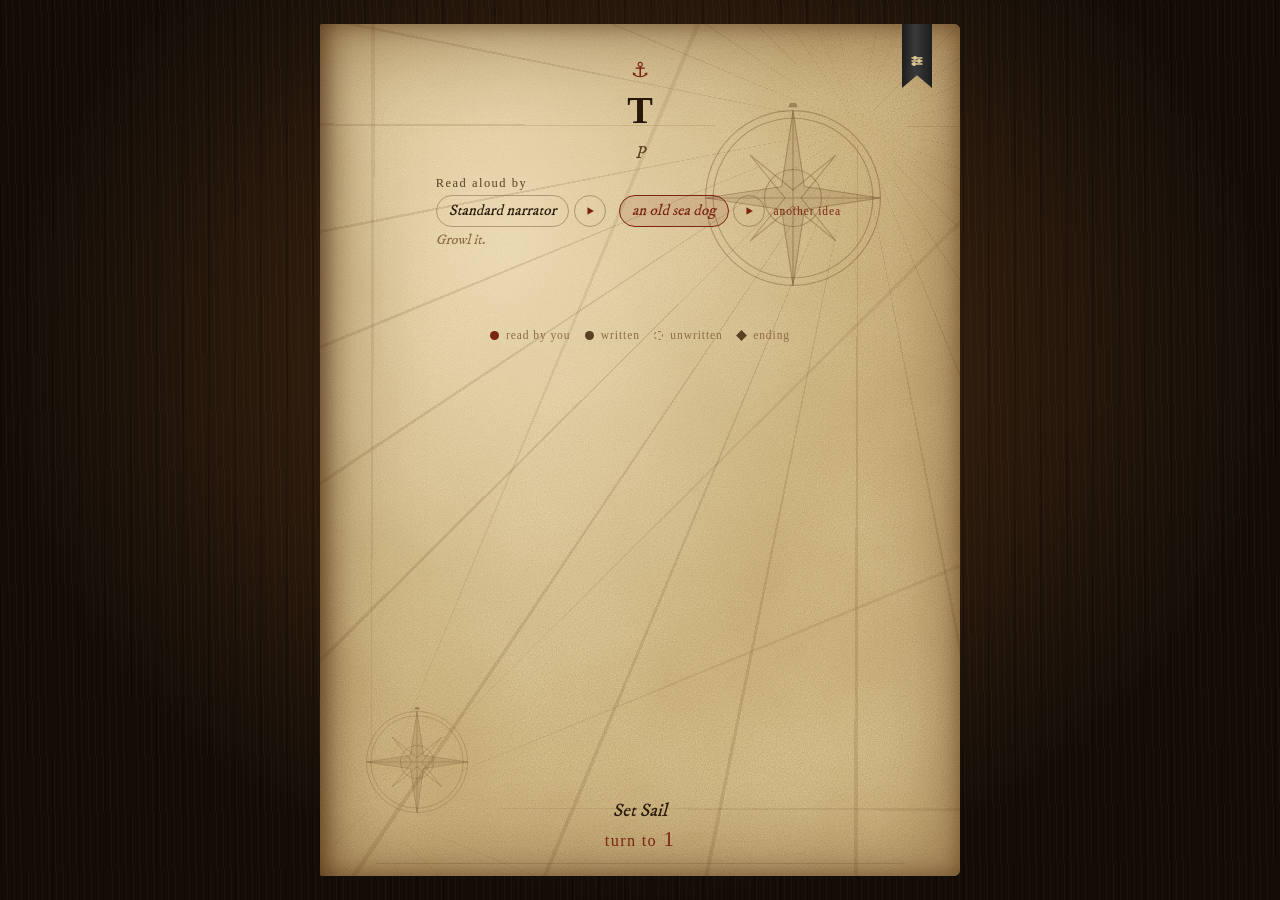
Scenario: the cover’s voice choice › lets the reader hear the standard and suggested narrators read the summary, choose one, or ask for another idea
Expected: the text "Growl it." is shown, [436,232,485,250]
Click the button named "Hear Standard narrator". click: (590, 211)
box: [574,195,606,227]
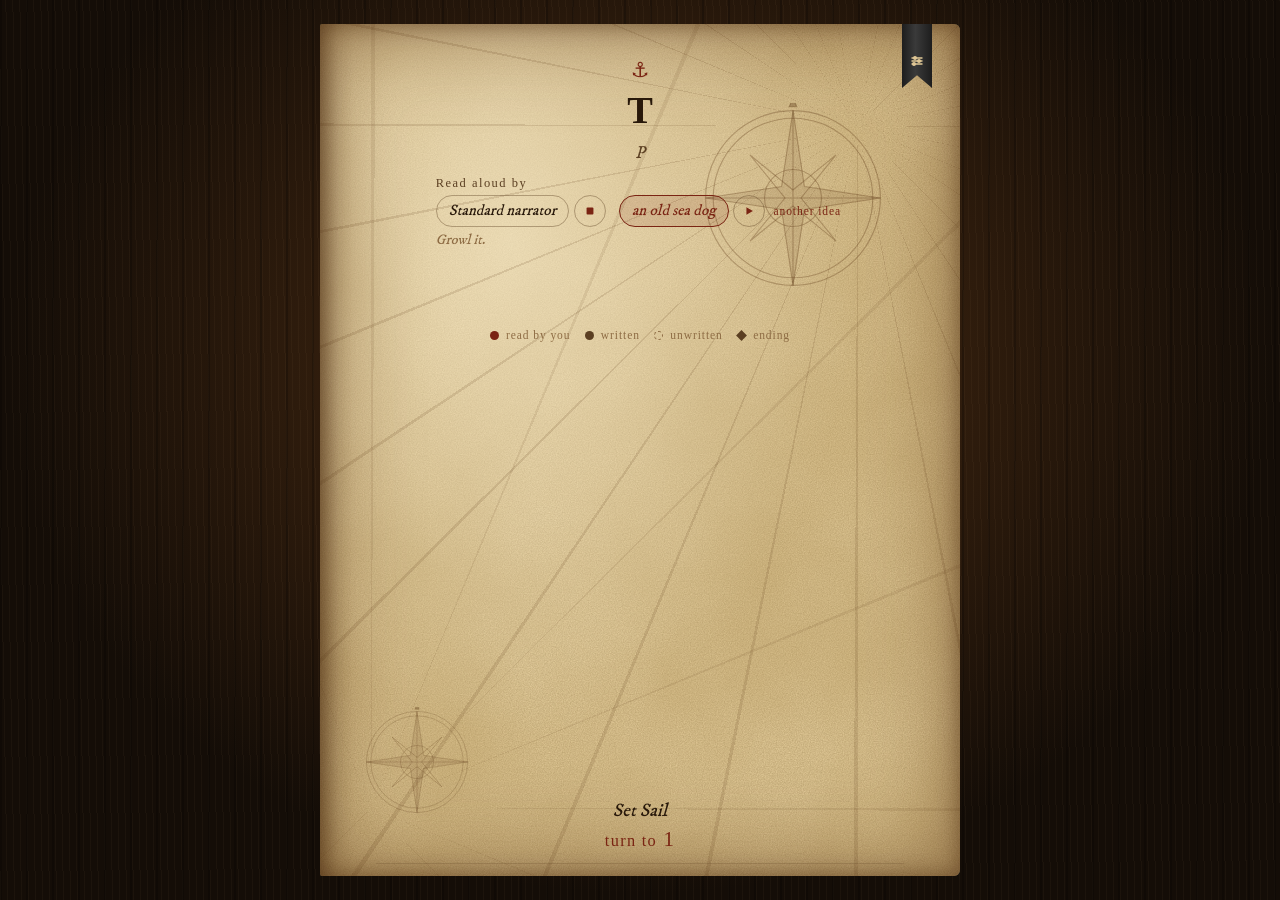
Click the button named "Hear an old sea dog". click: (750, 211)
box: [734,195,766,227]
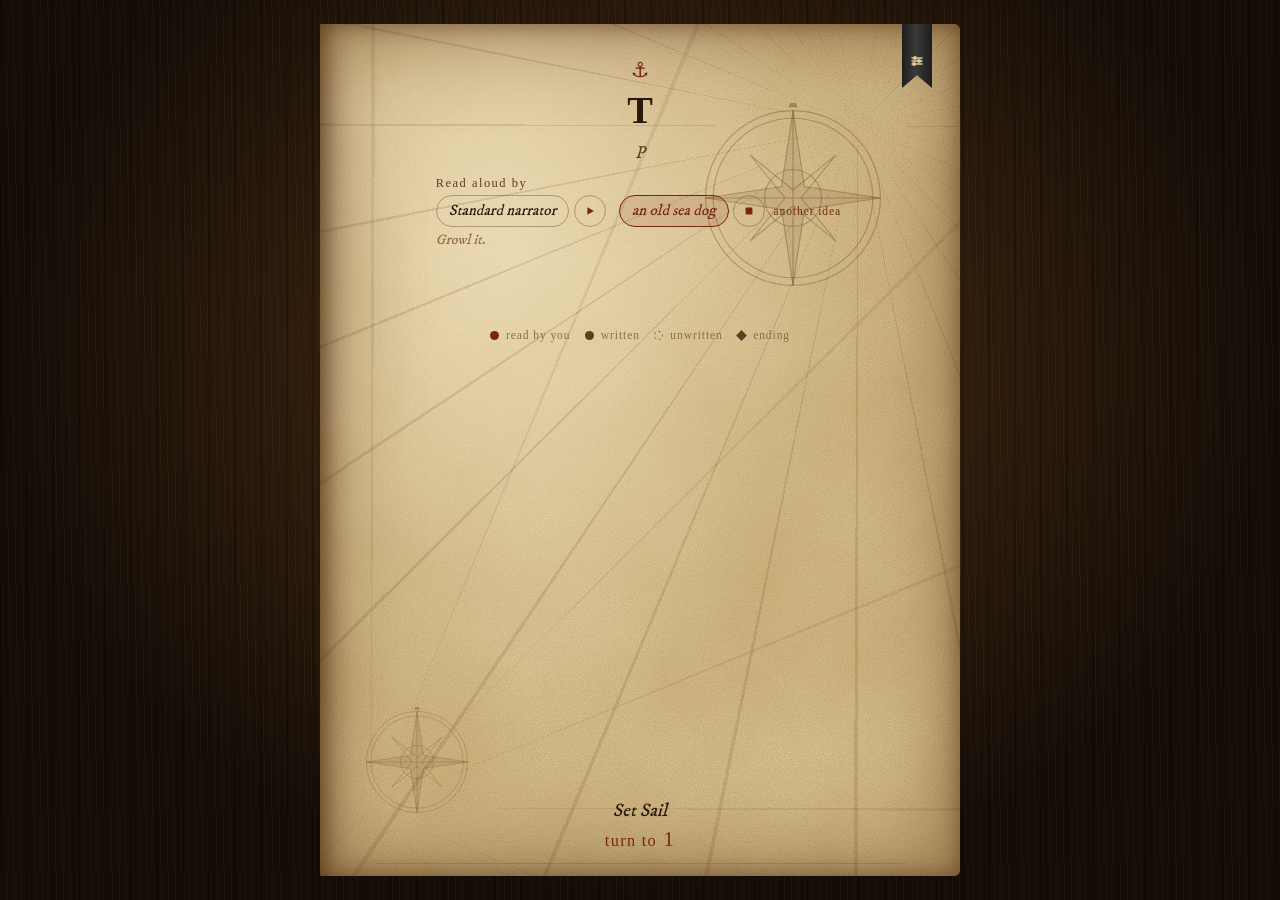
Click the radio button labelled "Standard narrator". click: (502, 211)
box: [436,195,569,227]
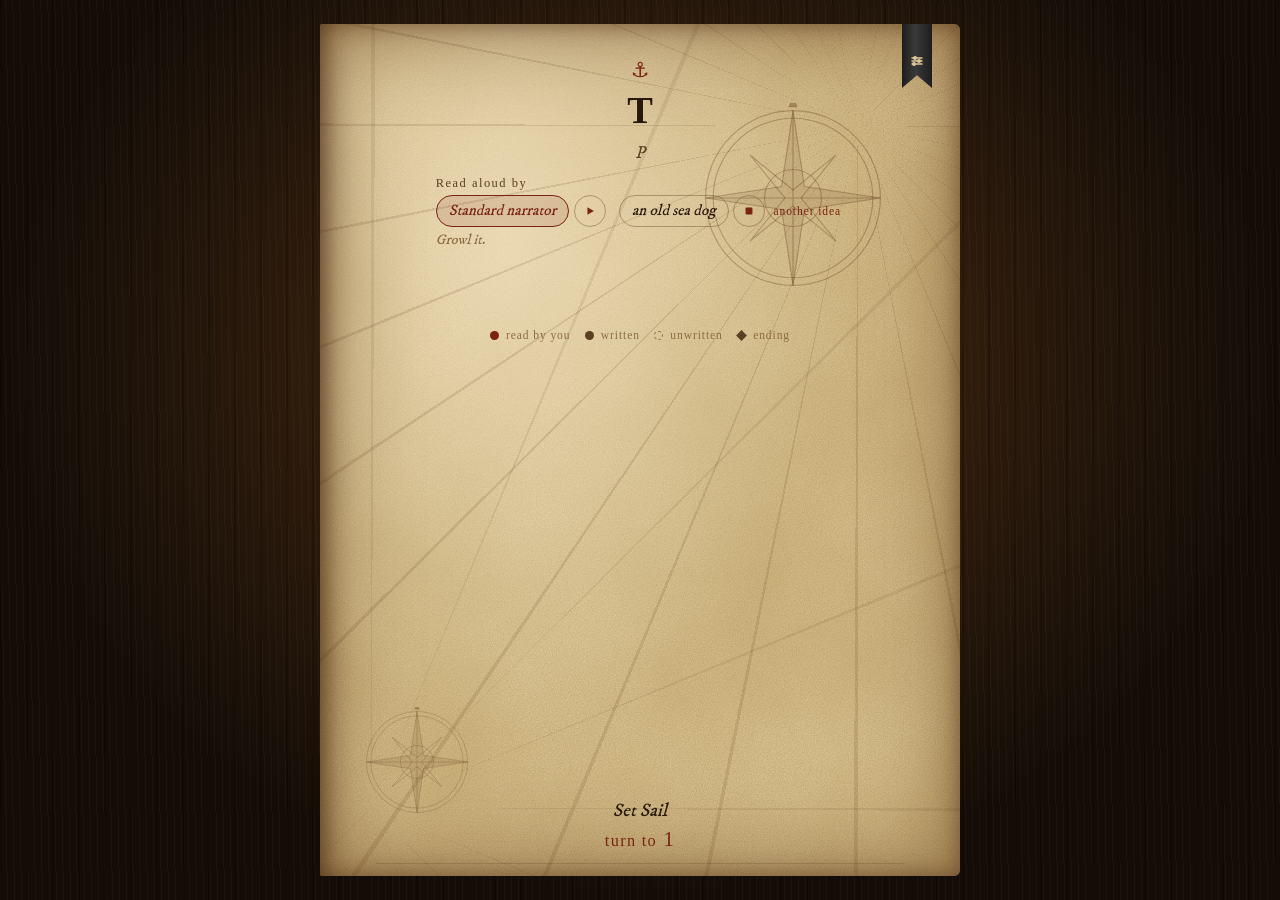
Expected: the radio button labelled "Standard narrator" is checked, [436,195,569,227]
Click the button "another idea". click: (807, 211)
box: [770,195,844,227]
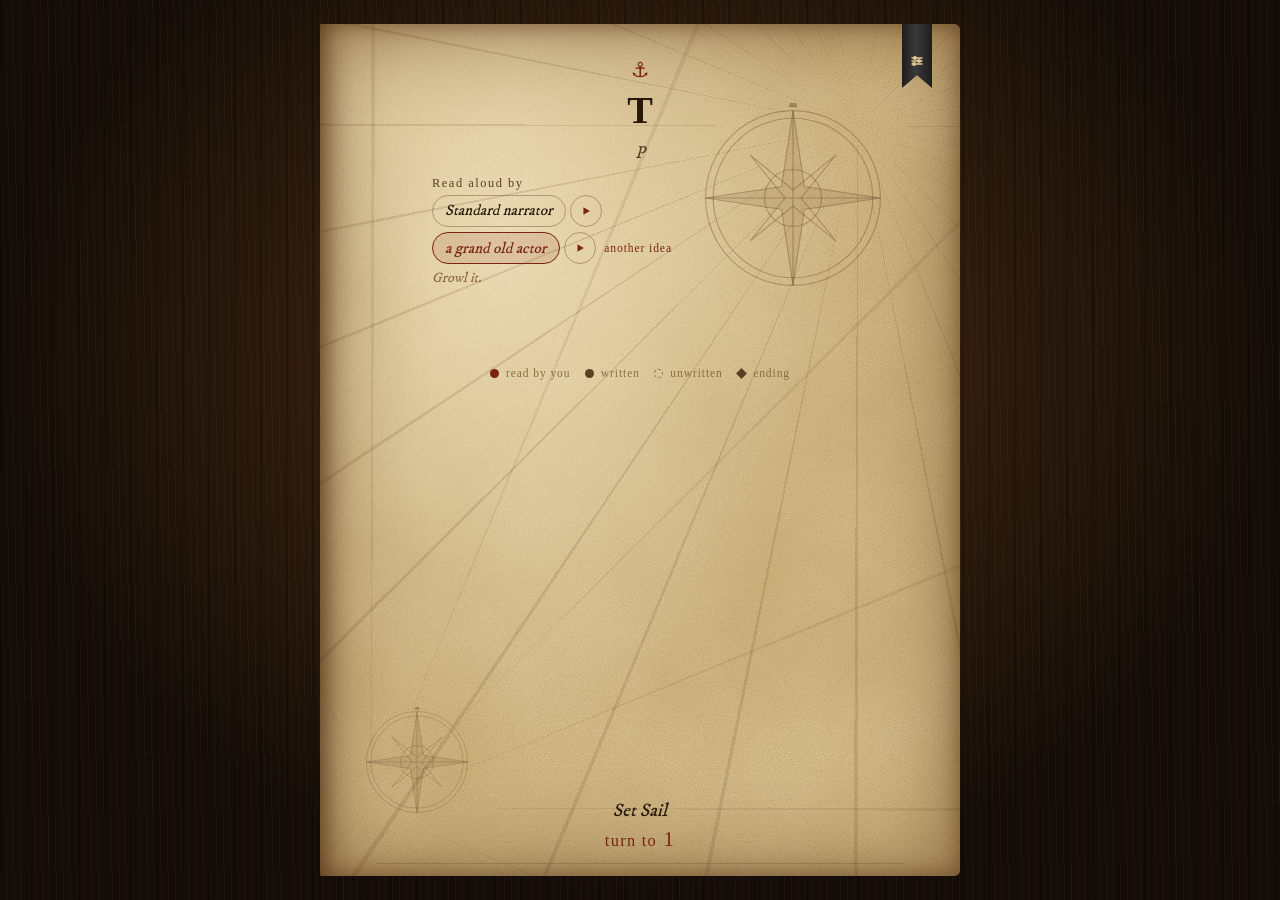
Expected: the radio button labelled "a grand old actor" is shown, [432,232,560,264]
